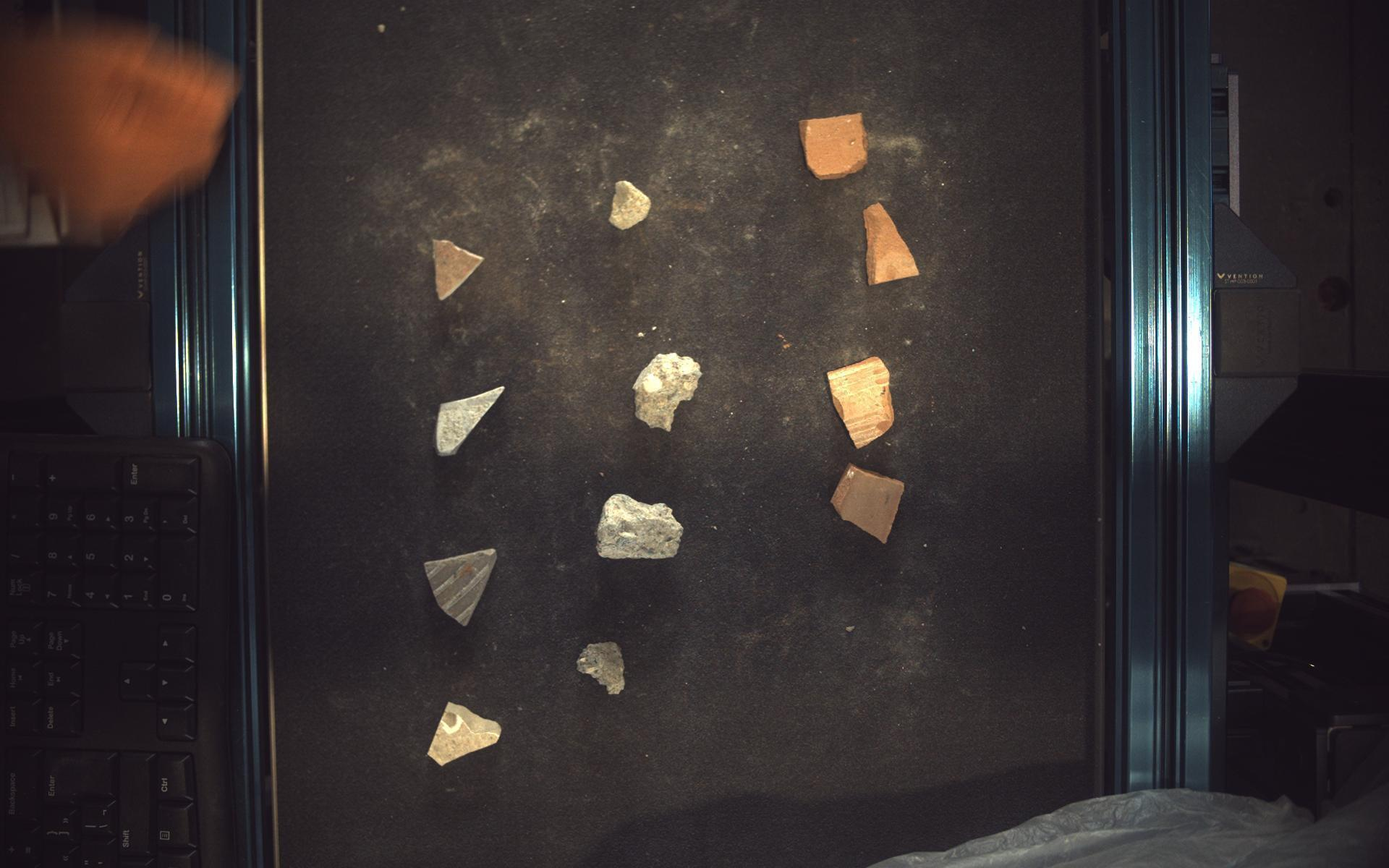brick: (828, 356, 896, 448), (833, 464, 906, 543), (800, 112, 868, 179), (865, 203, 921, 284)
concrete: (597, 495, 684, 560), (634, 353, 702, 432), (578, 643, 626, 696), (610, 179, 652, 229)
tile: (425, 549, 496, 627), (436, 386, 504, 456), (428, 703, 501, 767), (433, 239, 484, 300)
